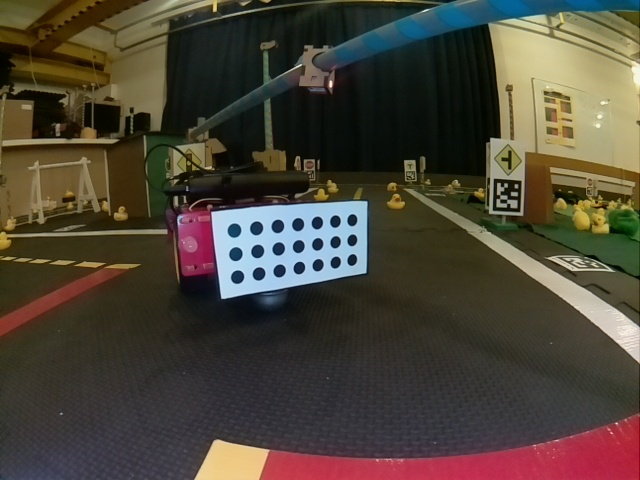Duckie: (592, 216, 609, 236), (387, 194, 404, 208), (114, 206, 127, 222), (315, 188, 326, 200), (444, 185, 454, 194), (327, 182, 337, 190), (473, 188, 483, 196)
Duckiebot: (166, 173, 367, 293)
Intersection sign: (494, 143, 524, 175)
QR code: (549, 255, 606, 272), (493, 178, 520, 212)
Signal sign: (174, 147, 202, 169)
Traffic light: (299, 44, 337, 94)
